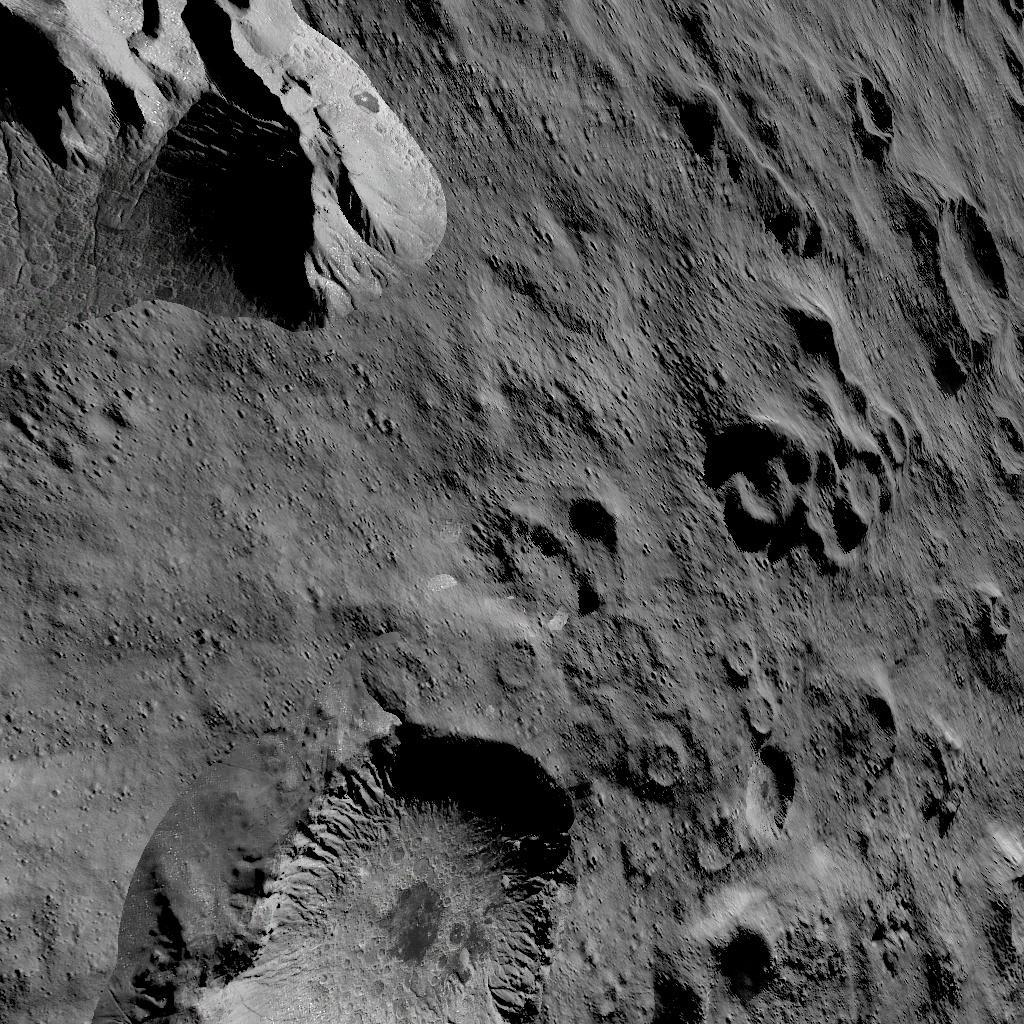Boulders: (1, 0, 463, 398)
Crater: (149, 720, 615, 1022), (692, 304, 912, 574), (726, 636, 821, 860), (501, 494, 642, 620), (928, 180, 1014, 364), (681, 922, 810, 1024), (854, 689, 919, 777), (842, 64, 904, 152), (500, 636, 556, 697), (638, 739, 692, 796), (987, 408, 1024, 478)
Plan surface: (3, 408, 485, 710), (473, 24, 677, 392), (1, 718, 141, 1024)
